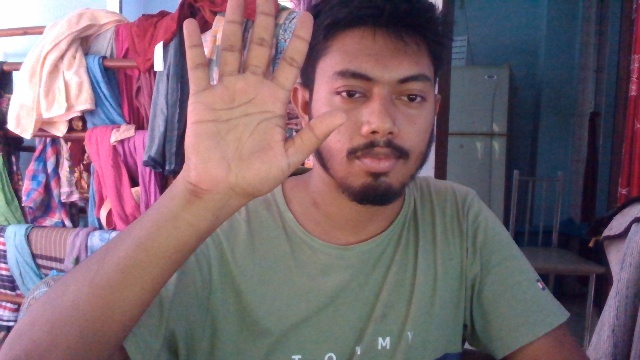hello: (164, 2, 349, 212)
